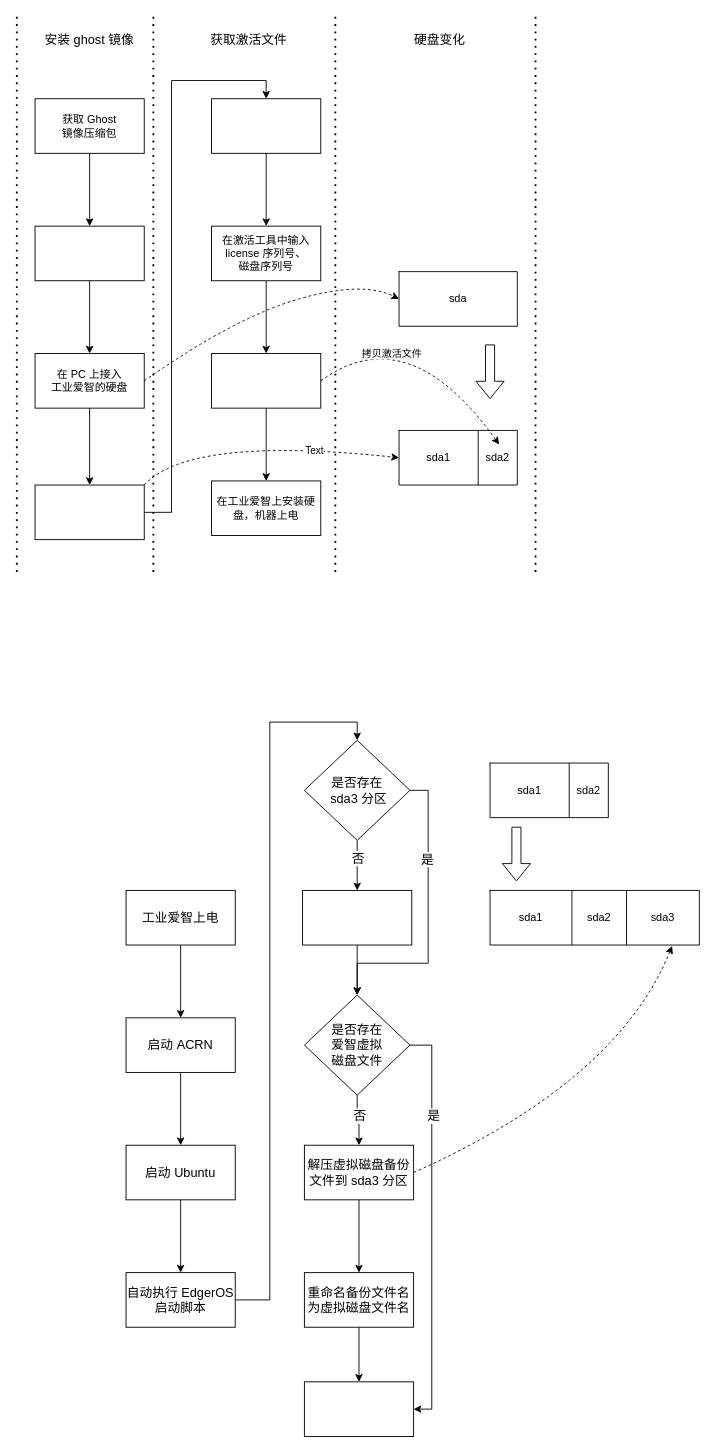
Image size: 715x1452. Some labels were removed from this diagram. The centre of each missing label's shape, as x and y in pixels:
"使用 DiskGenius 拷贝 Ghost 镜像 至硬盘" goes at point 89,512.
"创建并挂载 sda3 分区" goes at point 357,917.
"启动 EdgerOS 虚拟机" goes at point 358,1408.
"获取 license 序列号 和磁盘序列号" goes at point 266,125.
"获取激活文件并保存到工业爱智的硬盘" goes at point 266,380.
"解压镜像压缩包" goes at point 89,253.
